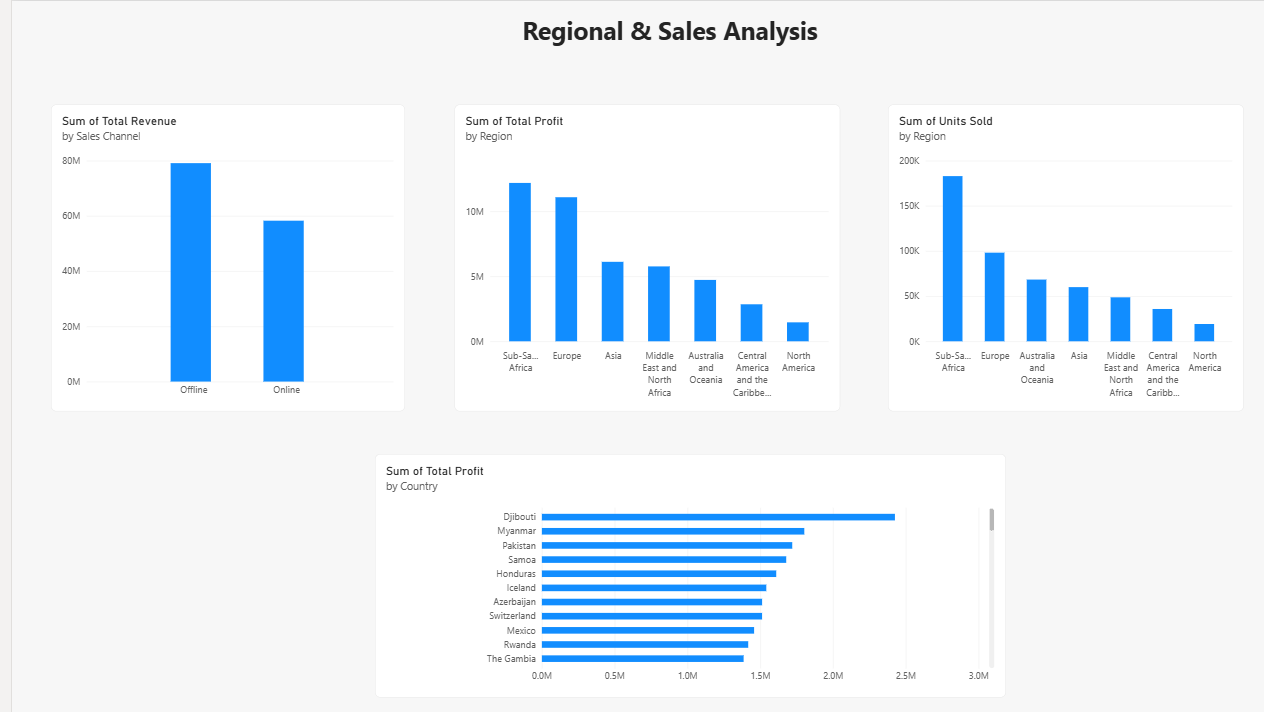

This screenshot's page, from the dashboard's own definition file:
{"tool":"powerbi","page":{"name":"Regional & Sales Analysis","canvas":[1920,1080],"ordinal":2},"visuals":[{"type":"textbox","box":[0,0,1555.8,106.8],"z":0},{"type":"clusteredColumnChart","fields":{"Category":["financial_performance financial_sales_cleaned.Sales Channel"],"Y":["Sum(financial_performance financial_sales_cleaned.Total Revenue)"]},"box":[59.5,155.9,535.8,464.9],"z":1},{"type":"clusteredColumnChart","fields":{"Category":["financial_performance financial_sales_cleaned.Region"],"Y":["Sum(financial_performance financial_sales_cleaned.Total Profit)"]},"box":[669,155.9,583.9,464.9],"z":2},{"type":"clusteredColumnChart","fields":{"Category":["financial_performance financial_sales_cleaned.Region"],"Y":["Sum(financial_performance financial_sales_cleaned.Units Sold)"]},"box":[1326.6,155.9,538.6,464.9],"z":3},{"type":"clusteredBarChart","fields":{"Category":["financial_performance financial_sales_cleaned.Country"],"Y":["Sum(financial_performance financial_sales_cleaned.Total Profit)"]},"box":[549.9,686,955.3,368.5],"z":4}]}

Visuals, with their boxes in screenshot pixels (x1, y1, x2, y2), scaled from the page's 1920x1080 canvas onto the 1264x712 screenshot:
textbox: bbox=(0, 0, 1024, 70)
clusteredColumnChart - financial_performance financial_sales_cleaned.Sales Channel x Sum(financial_performance financial_sales_cleaned.Total Revenue): bbox=(39, 103, 392, 409)
clusteredColumnChart - financial_performance financial_sales_cleaned.Region x Sum(financial_performance financial_sales_cleaned.Total Profit): bbox=(440, 103, 825, 409)
clusteredColumnChart - financial_performance financial_sales_cleaned.Region x Sum(financial_performance financial_sales_cleaned.Units Sold): bbox=(873, 103, 1228, 409)
clusteredBarChart - financial_performance financial_sales_cleaned.Country x Sum(financial_performance financial_sales_cleaned.Total Profit): bbox=(362, 452, 991, 695)
